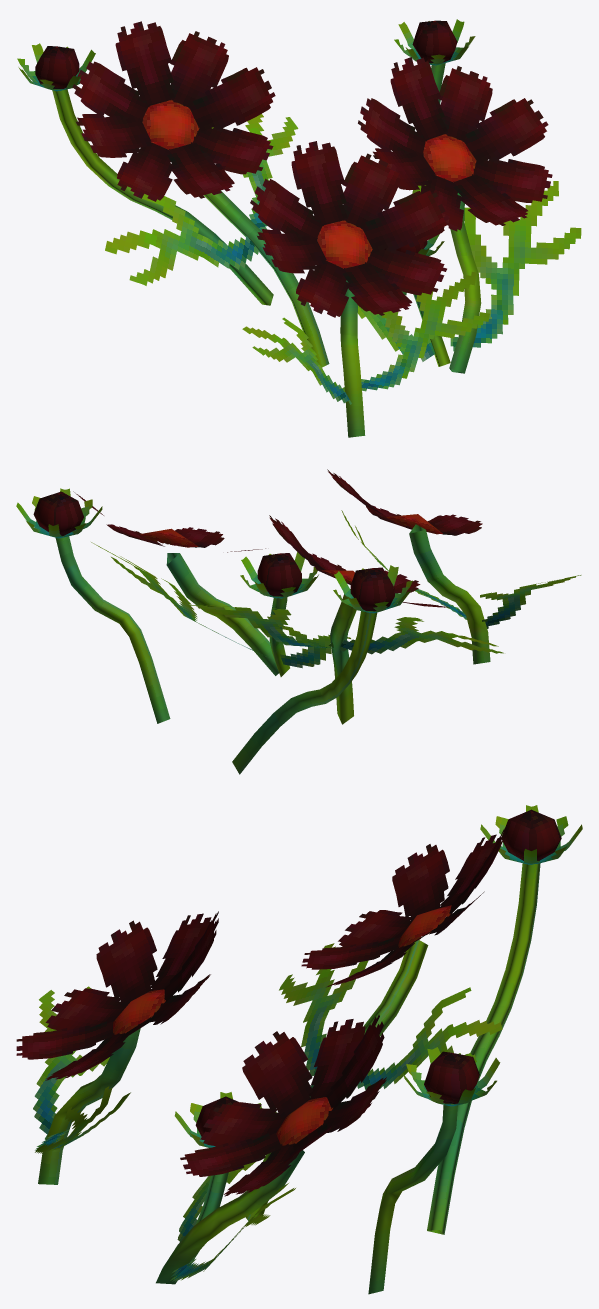
Rendered from black-cosmos.glb.
3 renders of one model, top to bottom at view 1: azimuth 30°, elevation 25°; view 2: azimuth 150°, elevation 25°; view 3: azimuth 270°, elevation 25°, orthographic. The views are drawn at different scales.
Bounding box in the file's own units: 10.23 × 6.53 × 9.6.
Materials: 2 (2 with a texture image).
